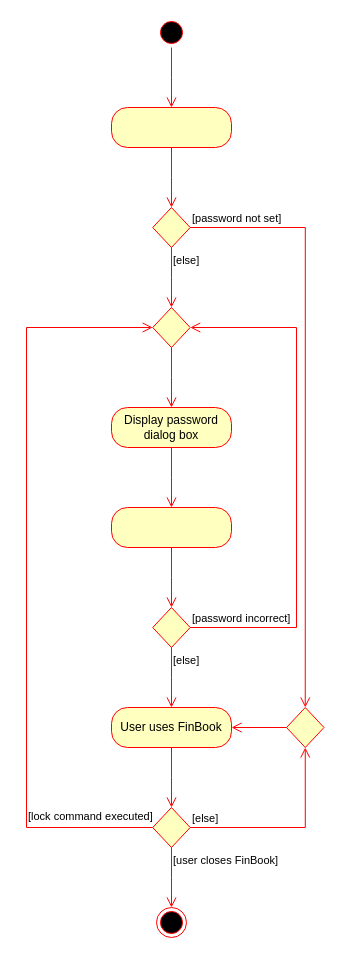
This 342x955 diagram has some shape labels left out. The shapes that lost their labels are listed below. From the top down, each one's centre as x and y in pixels, then its label:
At point (171, 127): "User opens FinBook".
At point (171, 527): "User enters password".
